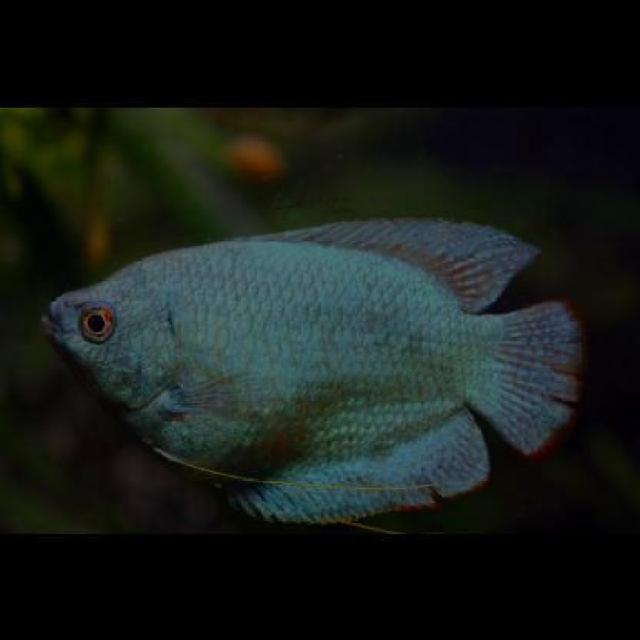Gourami: (39, 204, 592, 530)
